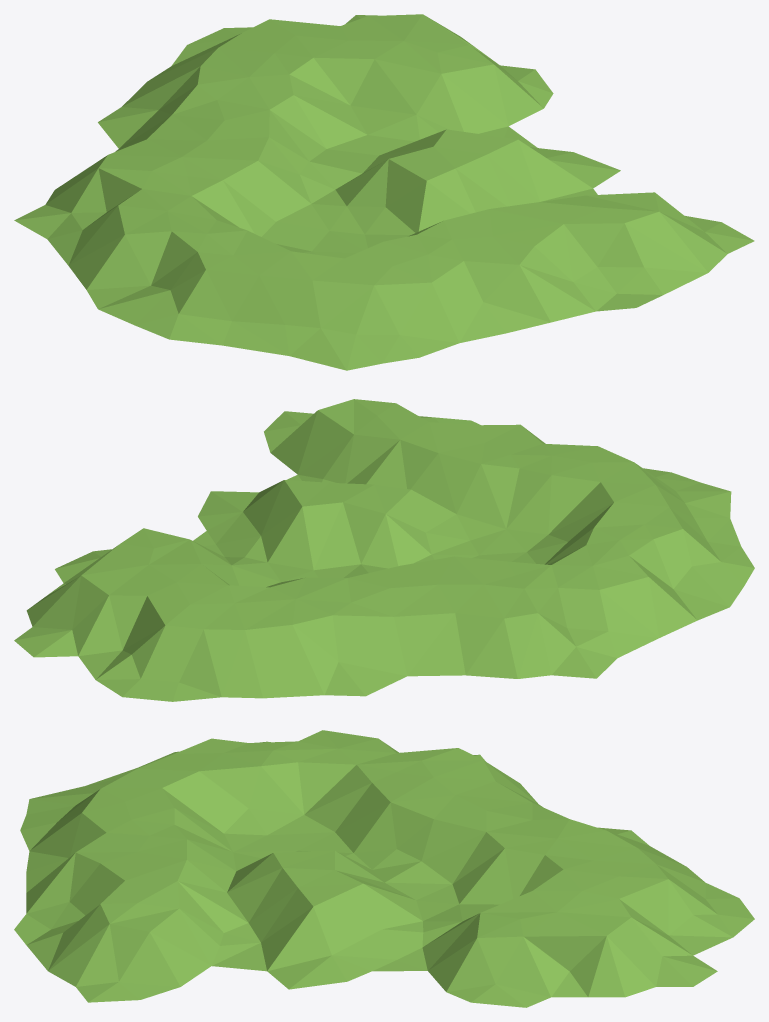
Rendered from MT_Mountain_M_b_04.fbx.
3 renders of one model, top to bottom at view 1: azimuth 30°, elevation 25°; view 2: azimuth 150°, elevation 25°; view 3: azimuth 270°, elevation 25°, orthographic. The views are drawn at different scales.
Parts seen in each view (by area): view 1: MT_Mountain_M_b_04; view 2: MT_Mountain_M_b_04; view 3: MT_Mountain_M_b_04.
Part boxes in pixels (x1,y1,x2,y2): MT_Mountain_M_b_04: (14, 14, 754, 370); MT_Mountain_M_b_04: (14, 399, 754, 701); MT_Mountain_M_b_04: (14, 730, 754, 1007).
Bounding box in the file's own units: 3984 × 310 × 4688.
